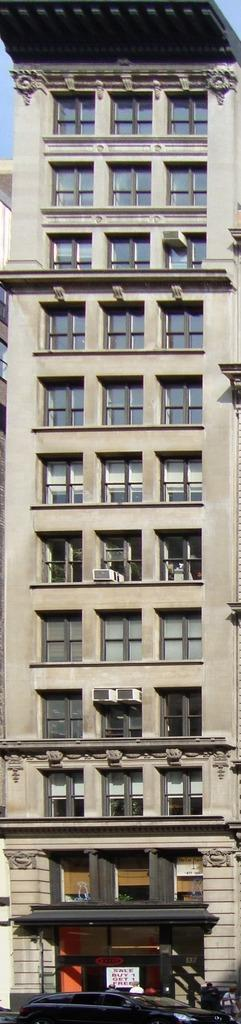window: (156, 608, 203, 662), (96, 610, 143, 664), (36, 610, 83, 664), (35, 768, 84, 818), (155, 530, 202, 582), (95, 768, 144, 817), (155, 767, 203, 817), (96, 452, 143, 503), (37, 453, 84, 504), (96, 531, 143, 582), (36, 532, 83, 583), (155, 688, 203, 737), (96, 689, 144, 738), (35, 690, 83, 739), (156, 376, 203, 426), (98, 376, 145, 426), (38, 378, 85, 428), (156, 452, 202, 502), (158, 301, 204, 350), (99, 301, 145, 350), (40, 302, 86, 351), (49, 162, 95, 207), (108, 91, 154, 135), (162, 92, 208, 136), (107, 162, 152, 206), (50, 92, 96, 135), (165, 162, 208, 207), (114, 854, 150, 902), (46, 234, 92, 270), (105, 234, 151, 270), (162, 234, 207, 270), (174, 855, 205, 903), (59, 855, 90, 903)
